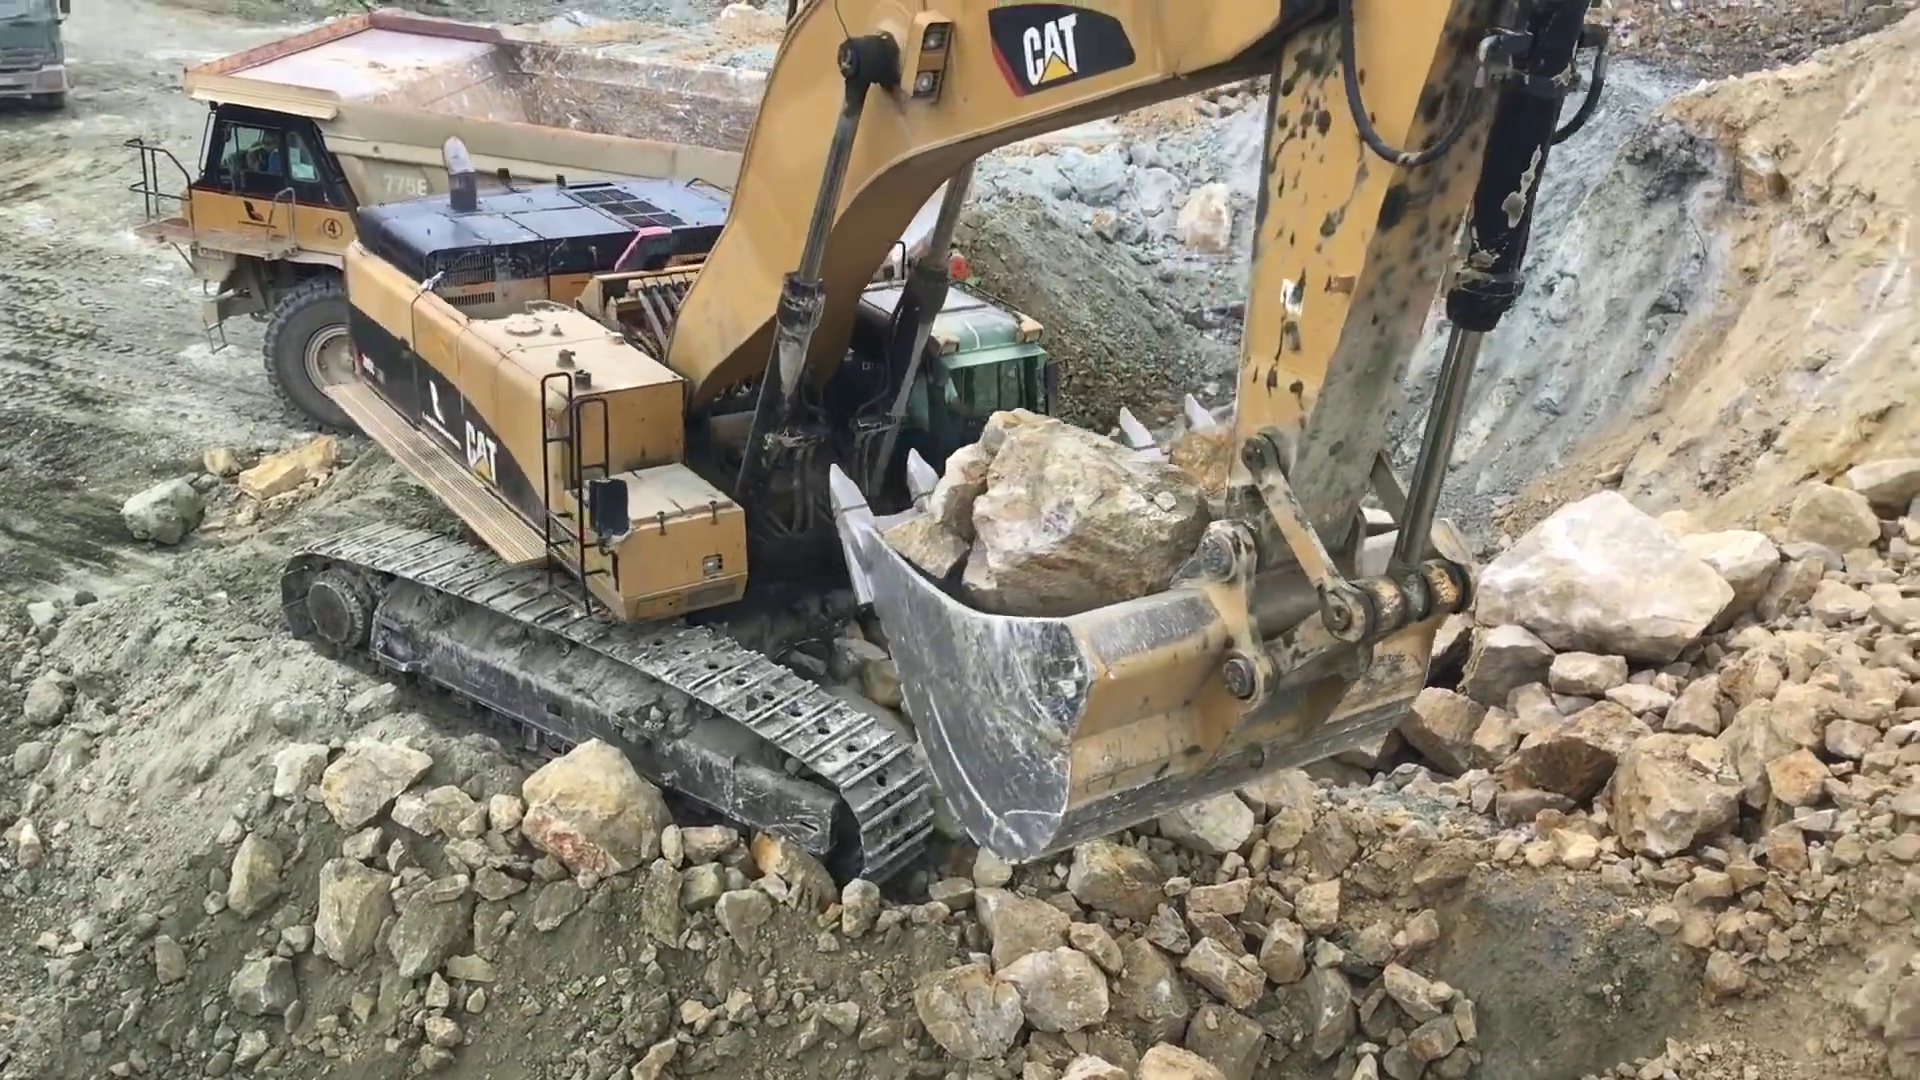dumper: (131, 11, 893, 436)
excavator: (280, 1, 1614, 886)
